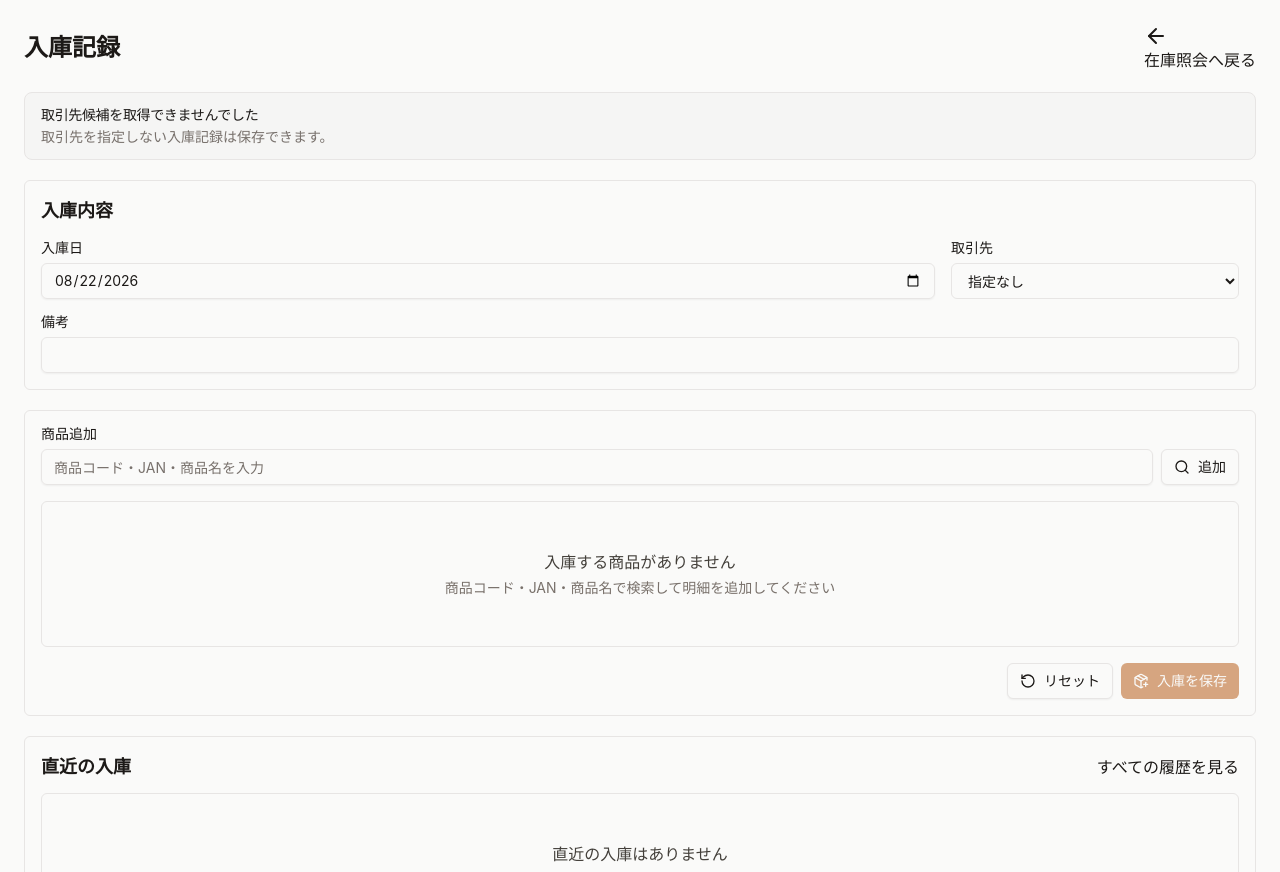
ReceivingPage (UI-02 / REQ-201) › allows no-supplier save when supplier options fail
In the dropdown named "入庫商品検索": x=597, y=467 x1=41 y1=449 x2=1153 y2=485, type "P-001"
Then press Enter
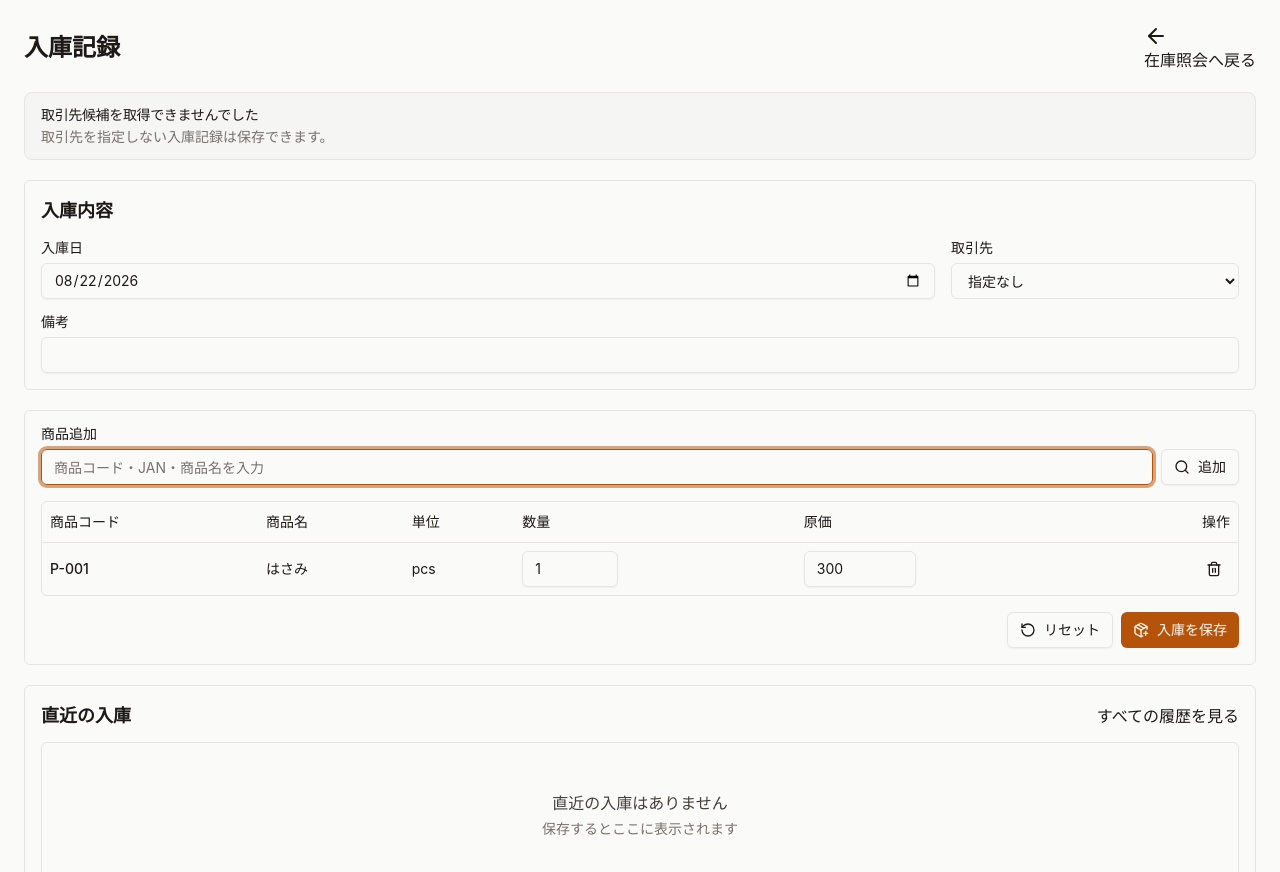
Expected: the text "P-001" is shown, x1=42 y1=542 x2=258 y2=594
Click the button "入庫を保存": x=1180, y=630 x1=1121 y1=612 x2=1239 y2=648
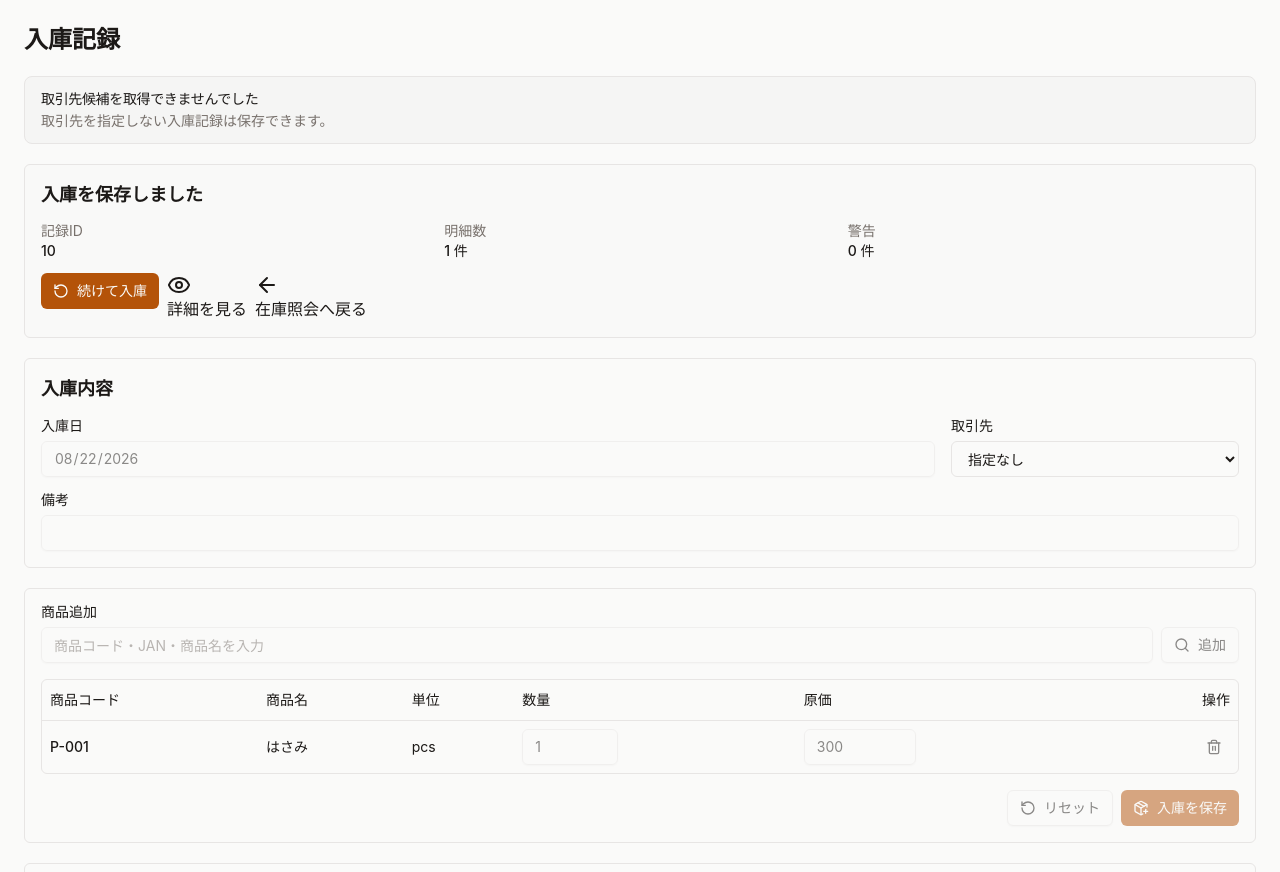
Expected: the heading "入庫を保存しました" is shown, x1=41 y1=181 x2=203 y2=209
